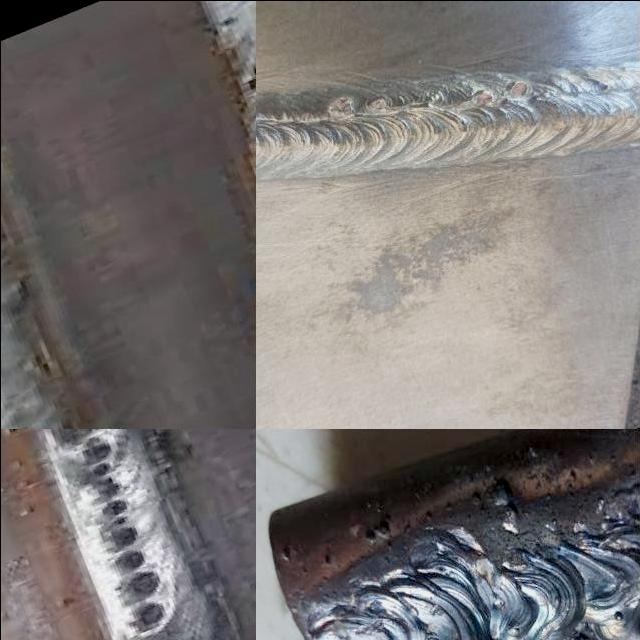defect: (75, 428, 172, 640), (327, 93, 355, 114), (507, 77, 530, 98), (210, 13, 238, 30), (362, 94, 390, 111), (240, 62, 256, 91), (419, 89, 442, 104), (475, 87, 495, 103), (422, 630, 440, 640), (289, 109, 298, 116)
